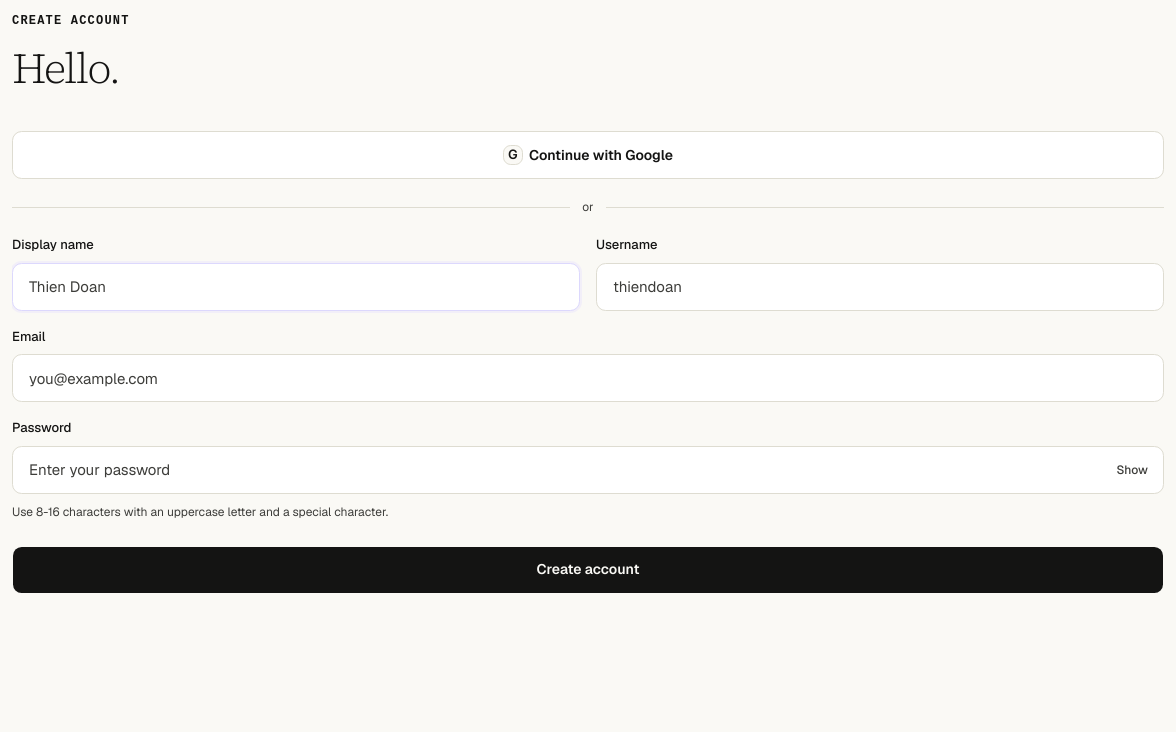
Test: RegisterForm › maps duplicate username errors to the username field
This screenshot has width=1176, height=732.
Type "Blaie User" into the field labelled "Display name" at (296,286), box [12, 262, 580, 310]
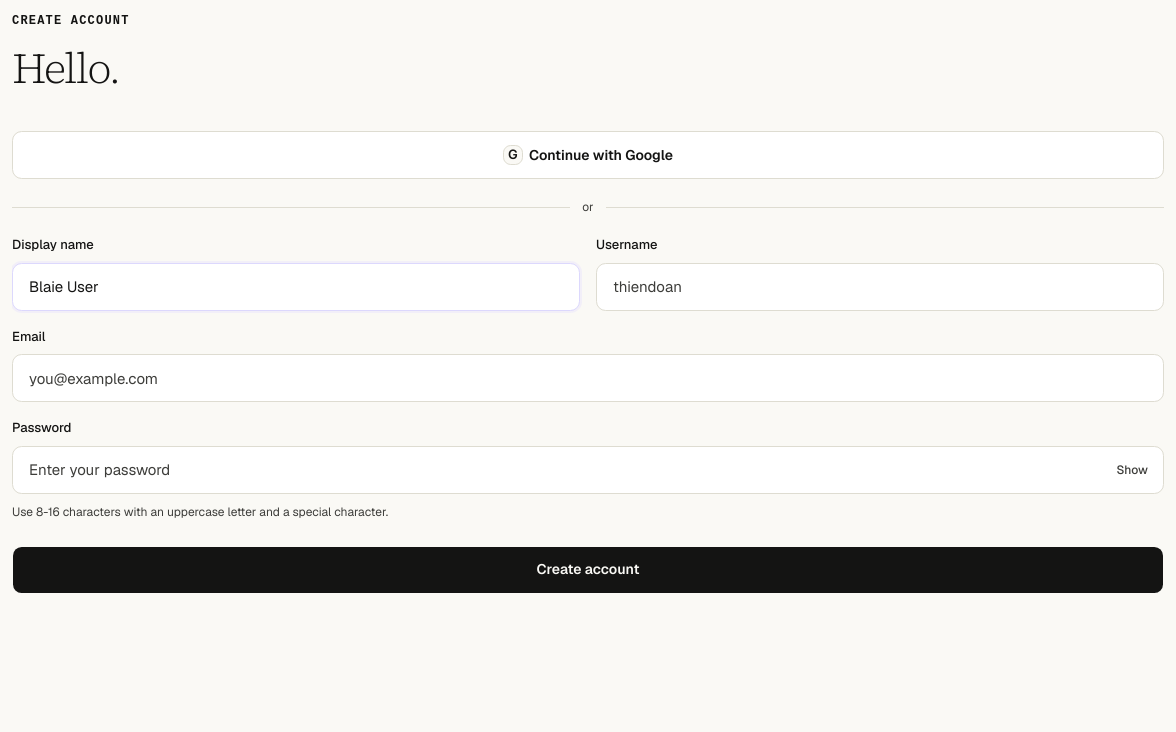
Type "blaie.user" into the field labelled "Username" at (880,286), box [596, 262, 1164, 310]
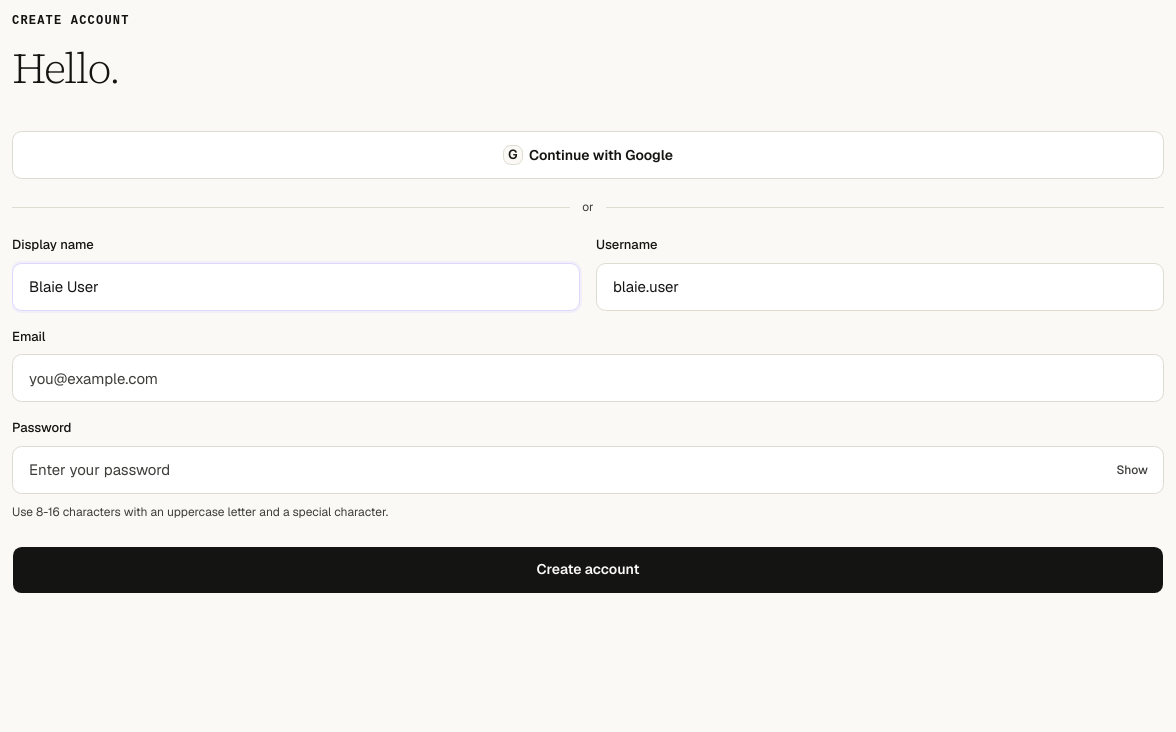
Type "user@example.com" into the field labelled "Email" at (588,378), box [12, 354, 1164, 402]
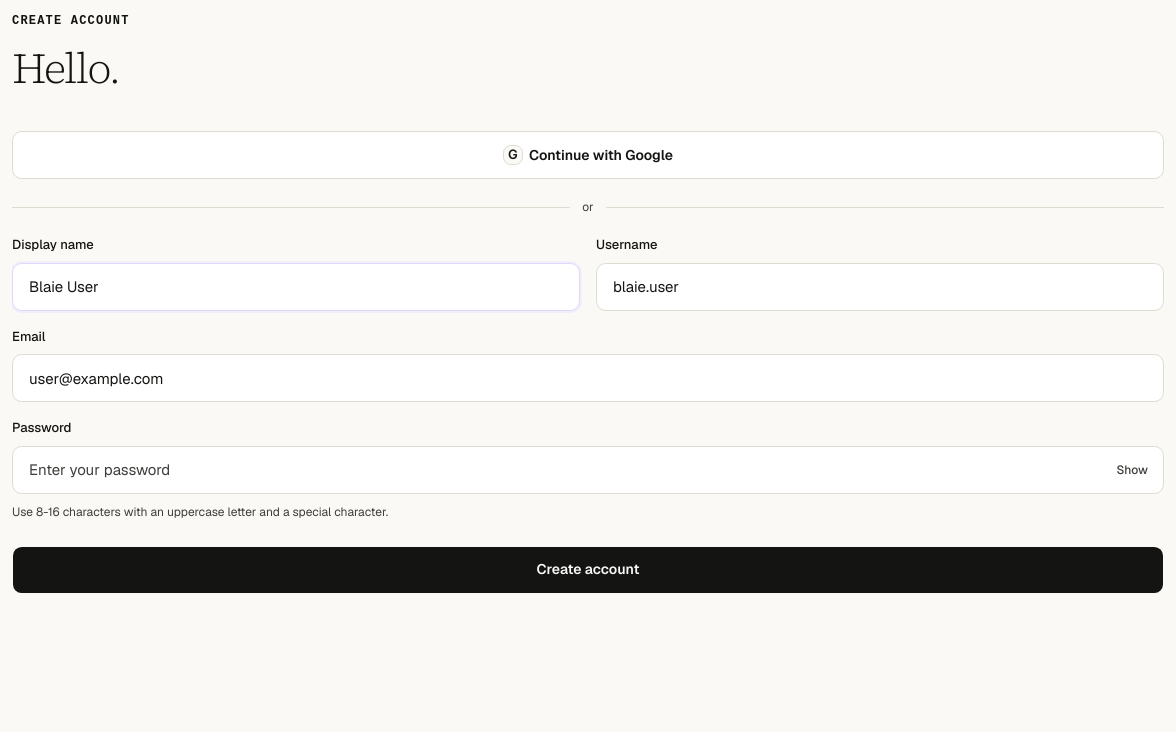
Type "Password1!" into the password field labelled "Password" at (588,470), box [12, 446, 1164, 494]
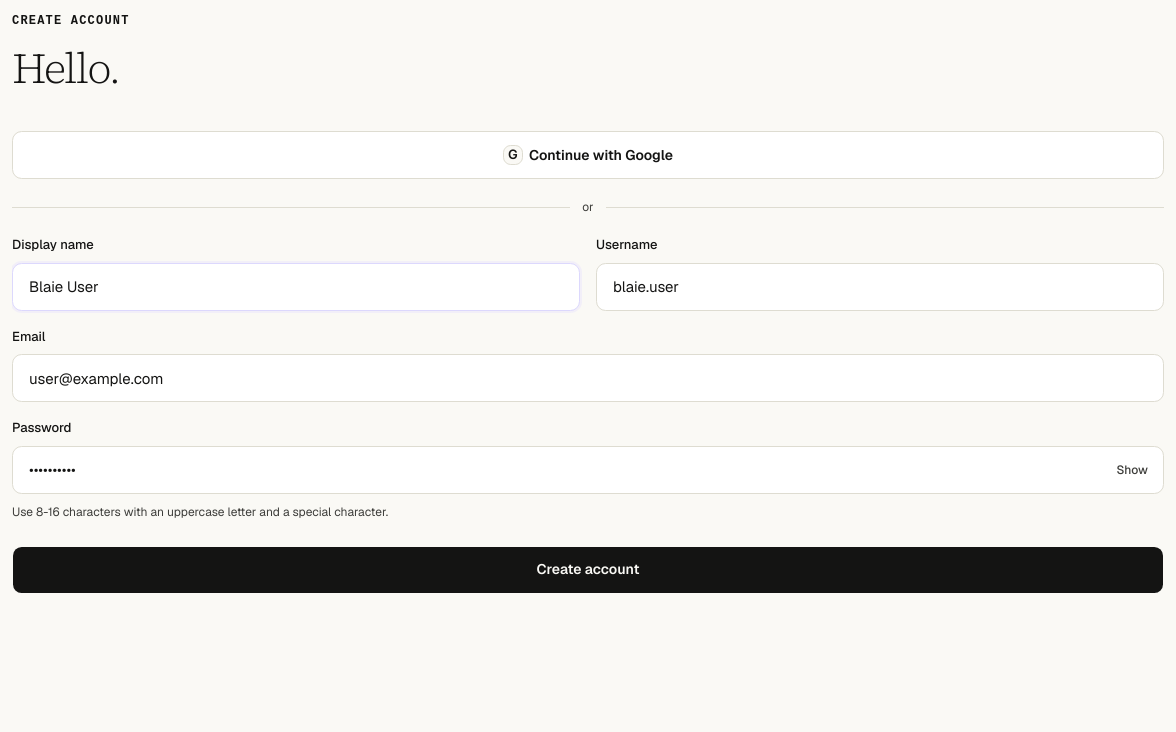
Click the button "Create account" at (588,570), box [12, 546, 1164, 594]
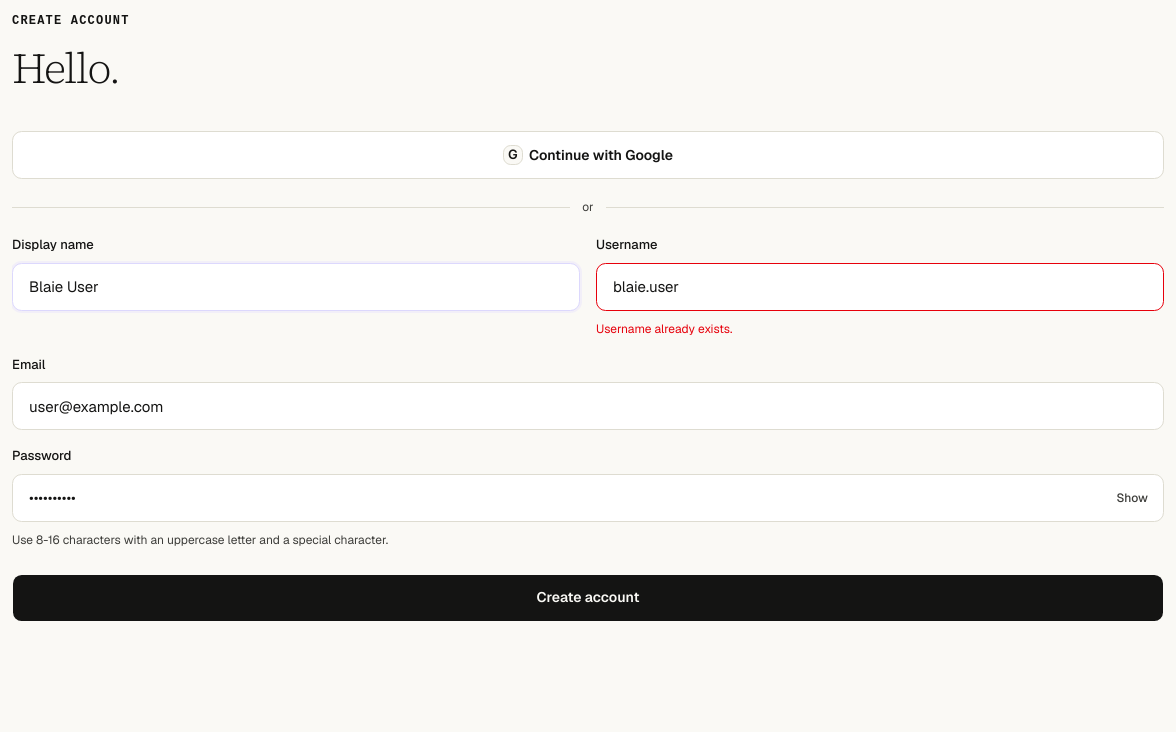
Expected: the message reads "Username already exists.", [596, 320, 732, 336]
